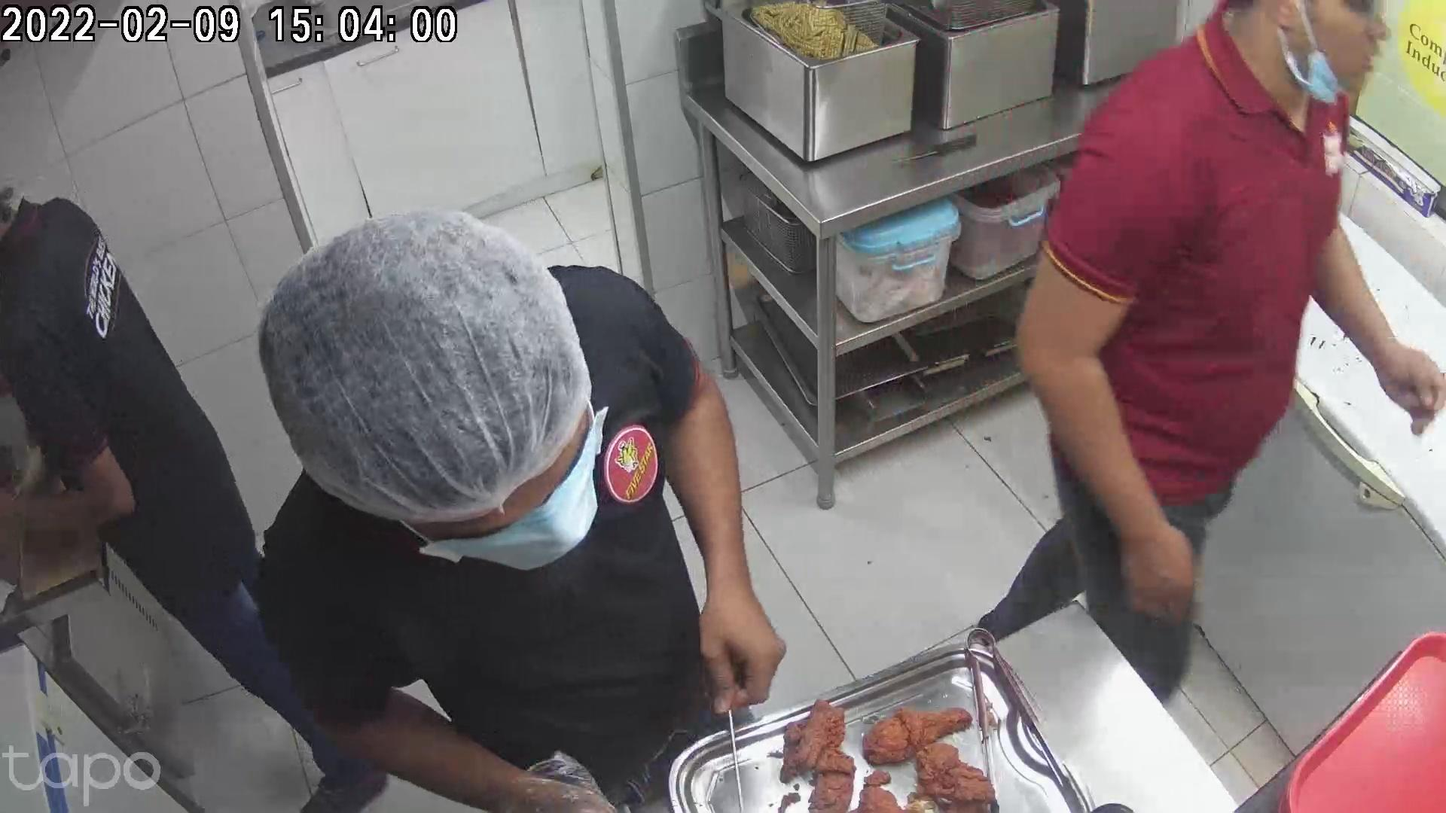no_gloves: (710, 548, 770, 711)
